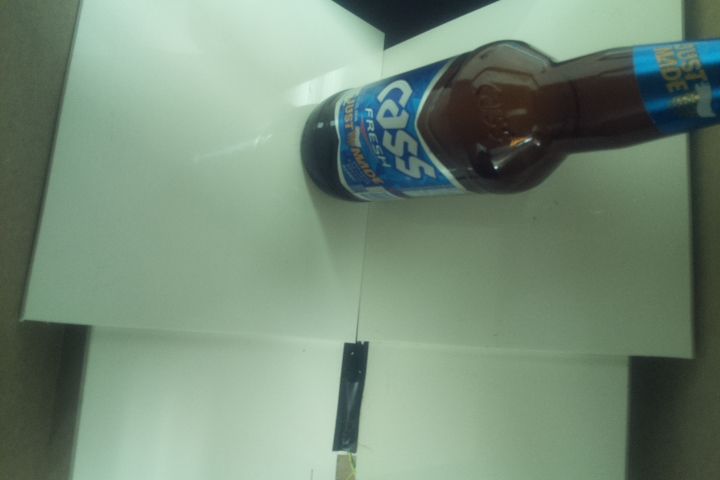makju: (299, 32, 720, 203)
